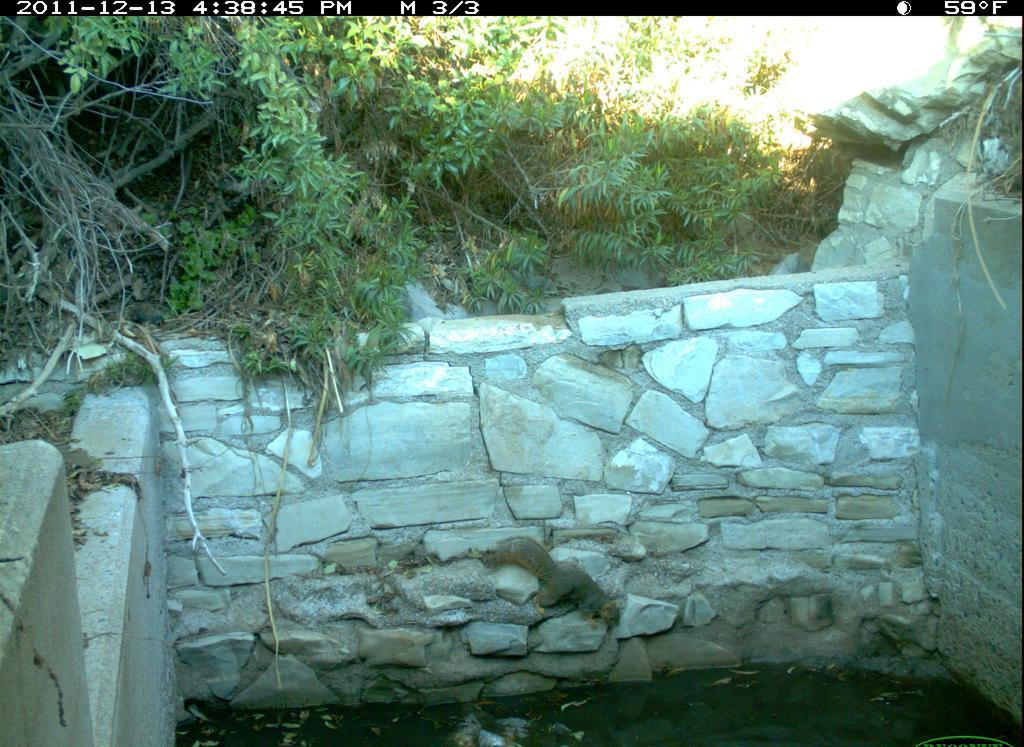squirrel: (470, 528, 621, 642)
